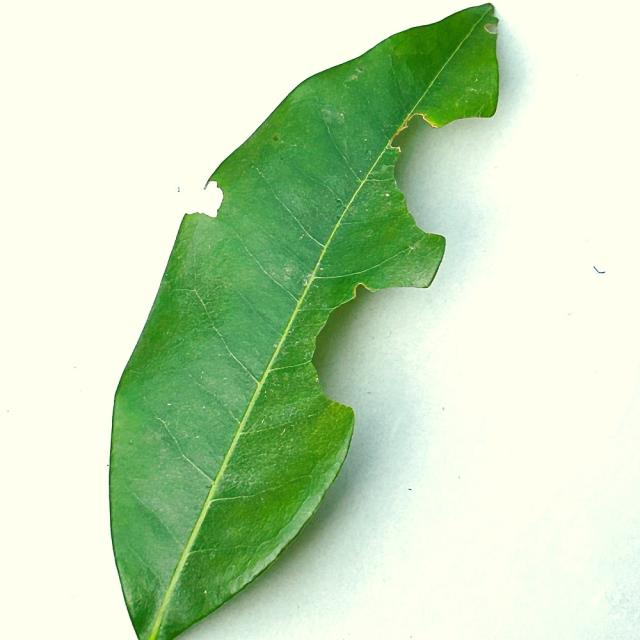Deficiency Leaf: (316, 292, 439, 492), (397, 120, 504, 296), (174, 177, 225, 230)
Lychee: (107, 4, 501, 639)
